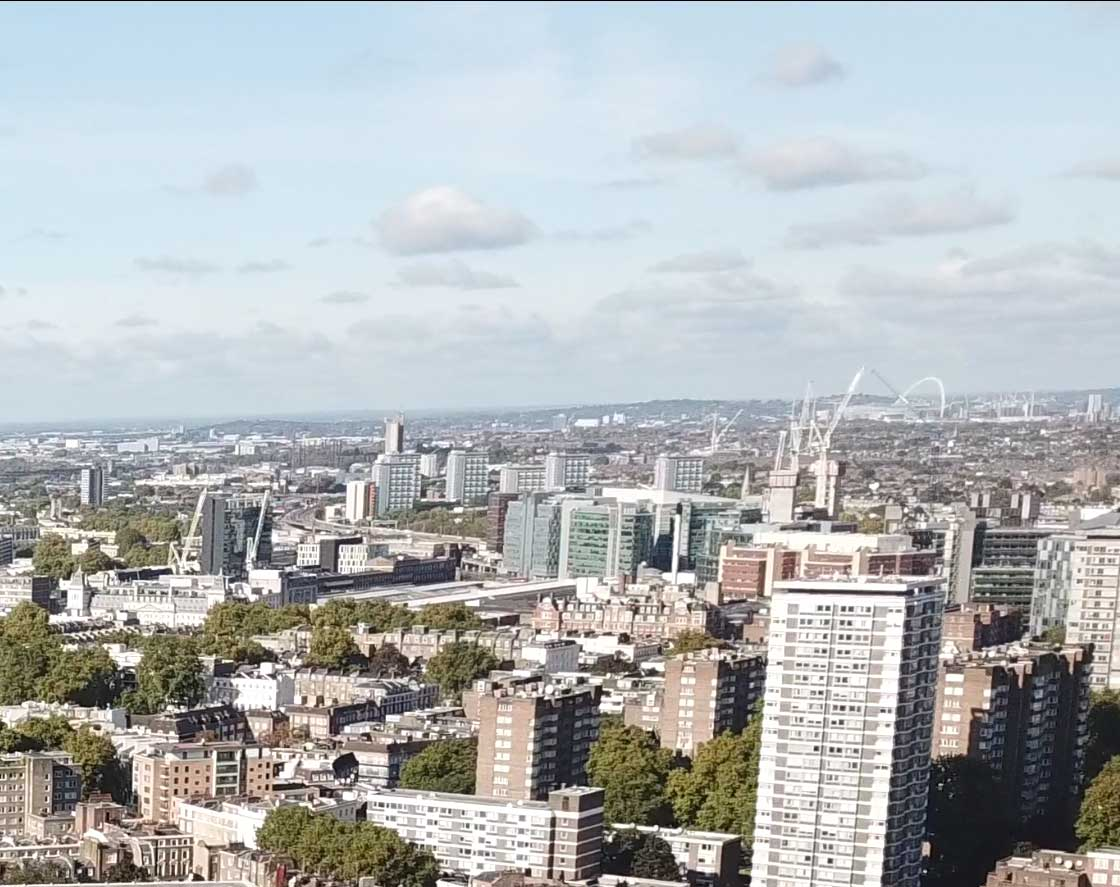building: (737, 566, 962, 887), (346, 771, 622, 887), (483, 481, 713, 592), (472, 673, 626, 811)
